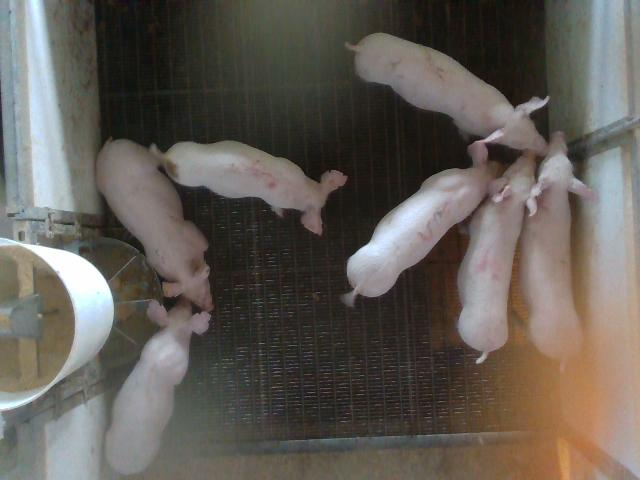pig-3: (341, 142, 492, 306)
pig-4: (458, 150, 536, 364)
pig-5: (161, 141, 346, 234)
